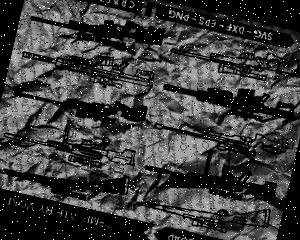sniper: (0, 114, 140, 170), (7, 77, 155, 127), (26, 4, 172, 54), (140, 153, 284, 203), (16, 44, 156, 95), (159, 77, 299, 124), (148, 118, 291, 162), (0, 160, 135, 206), (132, 196, 278, 238), (167, 41, 300, 85)
